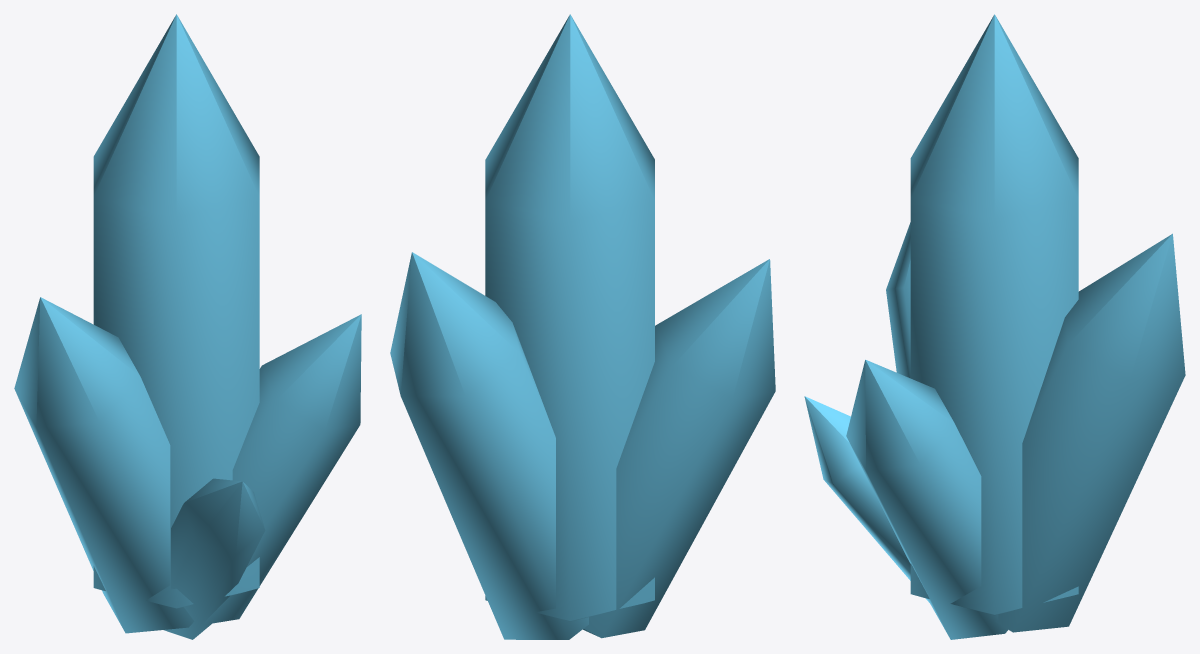
Rendered from cristal.obj.
3 renders of one model, left to right at view 1: azimuth 30°, elevation 25°; view 2: azimuth 150°, elevation 25°; view 3: azimuth 270°, elevation 25°, orthographic. The views are drawn at different scales.
Visible parts, largest first — view 1: Cristal_Energia; view 2: Cristal_Energia; view 3: Cristal_Energia.
Boxes of the visible parts, x1,y1,x2,y2 form: Cristal_Energia: [14, 14, 361, 639]; Cristal_Energia: [390, 14, 775, 639]; Cristal_Energia: [804, 14, 1185, 639].
Bounding box in the file's own units: 0.586 × 1.12 × 0.6296.
